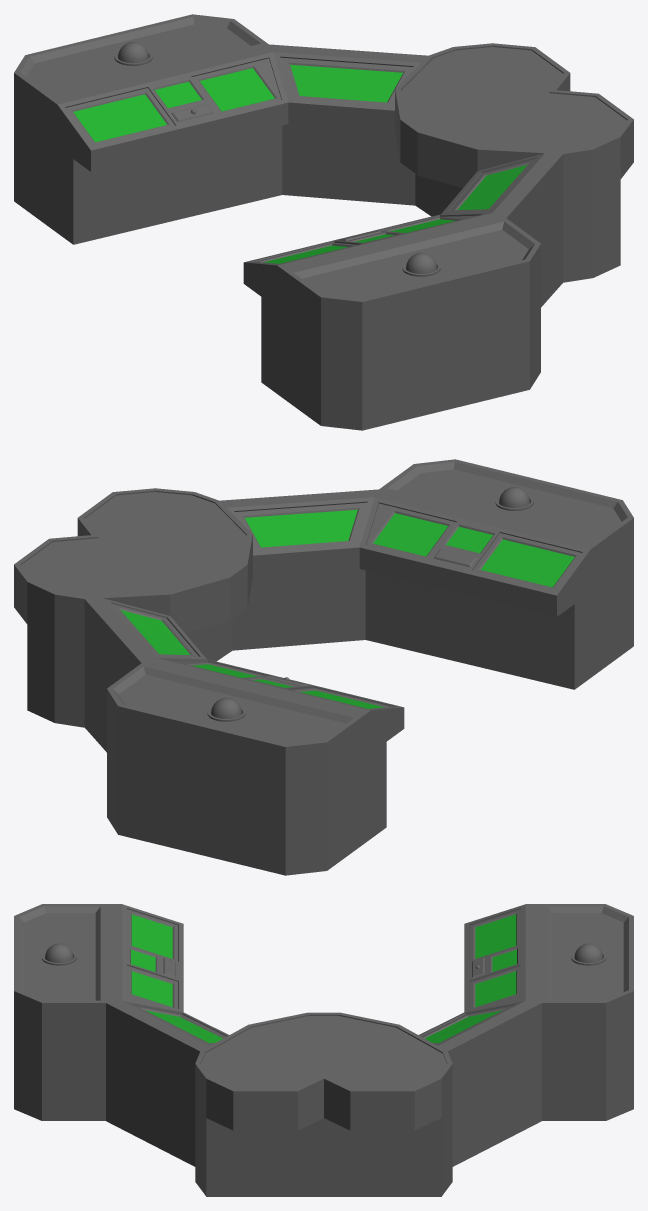
The model's file is Desk_Base.FBX.
The picture shows the model from 3 angles, top to bottom: view 1: azimuth 30°, elevation 25°; view 2: azimuth 150°, elevation 25°; view 3: azimuth 270°, elevation 25°; orthographic projection. The views are drawn at different scales.
Parts seen in each view (by area): view 1: Desk; view 2: Desk; view 3: Desk.
Part boxes in pixels (left/top/right/bottom): Desk: left=14, top=14, right=633, bottom=430; Desk: left=14, top=459, right=633, bottom=875; Desk: left=14, top=904, right=633, bottom=1196.
Size of the model in its own units: 67.7 by 21.39 by 94.8.
